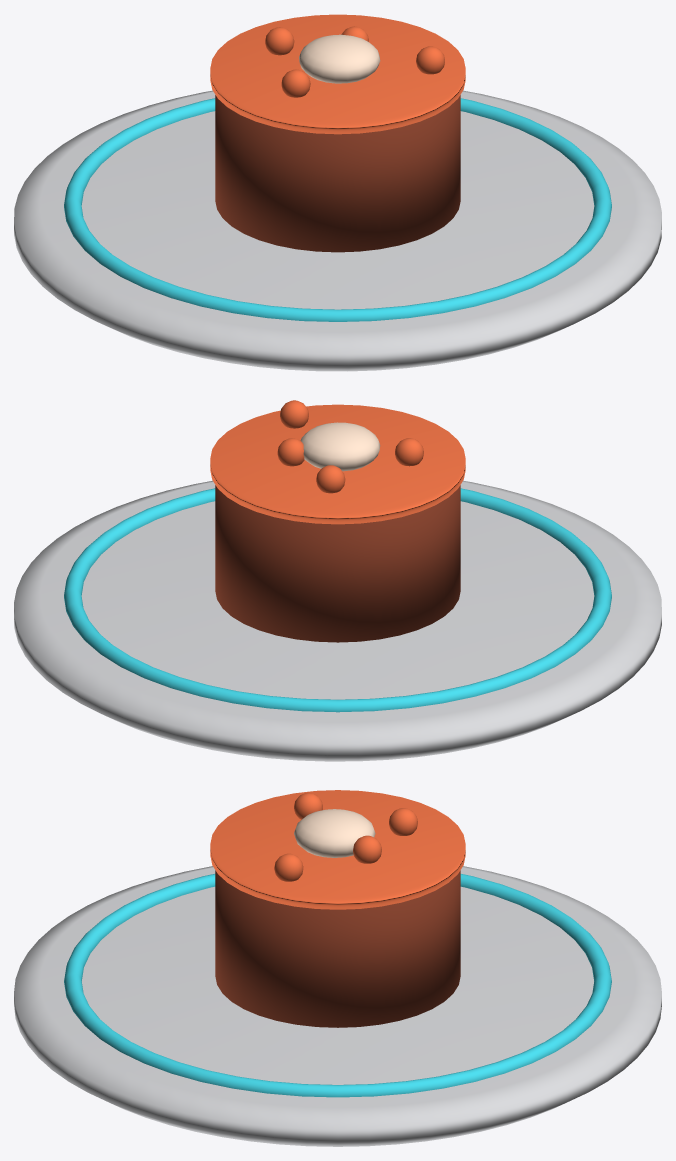
Rendered from chocolate-cake.glb.
The picture shows the model from 3 angles, top to bottom: view 1: azimuth 30°, elevation 25°; view 2: azimuth 150°, elevation 25°; view 3: azimuth 270°, elevation 25°; orthographic projection.
Parts seen in each view (by area): view 1: plate, chocolate-cake, chocolate-top, plate-rim, cream, berry (×3); view 2: plate, chocolate-cake, chocolate-top, plate-rim, cream, berry (×4); view 3: plate, chocolate-cake, chocolate-top, plate-rim, cream, berry (×4).
Part boxes in pixels (x1,y1,x2,y2): plate: (14,90,661,371); chocolate-cake: (215,95,460,252); chocolate-top: (210,14,465,134); plate-rim: (64,98,611,321); cream: (299,34,380,83); berry (×3): (265,27,444,97); plate: (14,480,661,761); chocolate-cake: (215,485,460,642); chocolate-top: (210,404,465,524); plate-rim: (64,488,611,712); cream: (300,422,380,471); berry (×4): (277,400,423,493); plate: (14,866,661,1146); chocolate-cake: (215,870,460,1027); chocolate-top: (210,790,465,909); plate-rim: (64,874,611,1097); cream: (294,809,375,857); berry (×4): (274,792,417,881).
Size of the model in its own units: 3.96 by 1.37 by 3.96.
